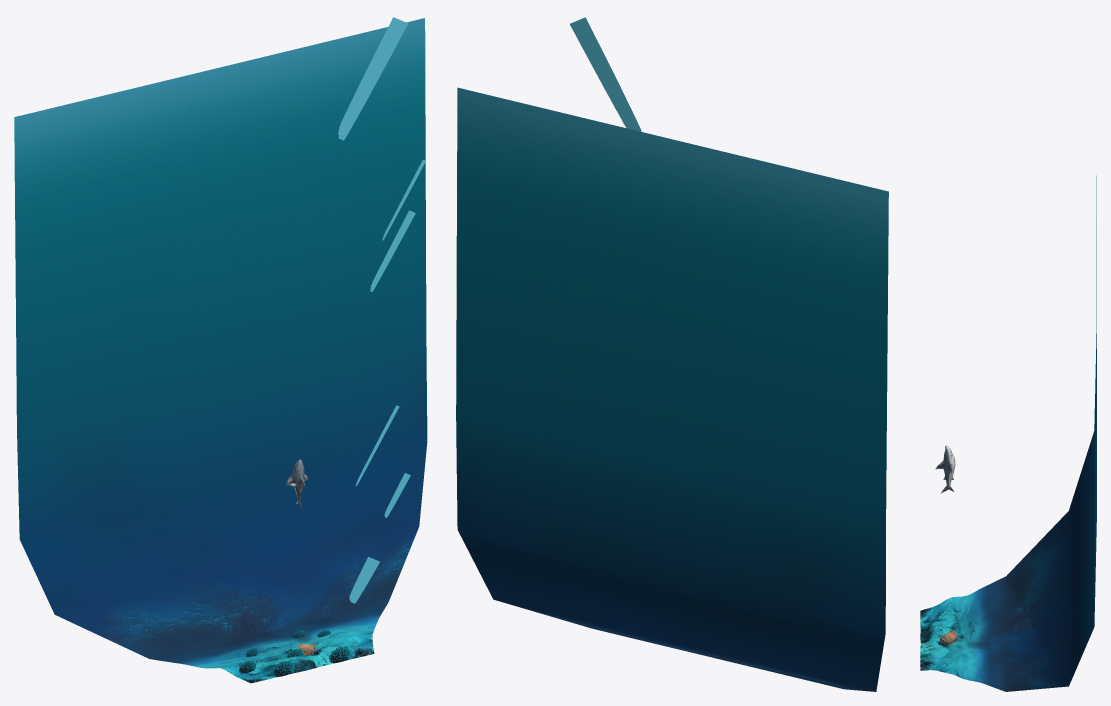
File: world_map_underwater.glb
3 renders of one model, left to right at view 1: azimuth 30°, elevation 25°; view 2: azimuth 150°, elevation 25°; view 3: azimuth 270°, elevation 25°, orthographic. The views are drawn at different scales.
Visible parts, largest first — view 1: background, flare6; view 2: background, flare6; view 3: background, shark.
Boxes of the visible parts, <box> form: background: <box>14,18,427,683</box>; flare6: <box>338,17,408,140</box>; background: <box>456,87,888,691</box>; flare6: <box>570,17,641,131</box>; background: <box>920,175,1096,691</box>; shark: <box>935,445,955,493</box>.
Bounding box in the file's own units: 43.02 × 61.45 × 16.55.
Materials: 9 (9 with a texture image).
